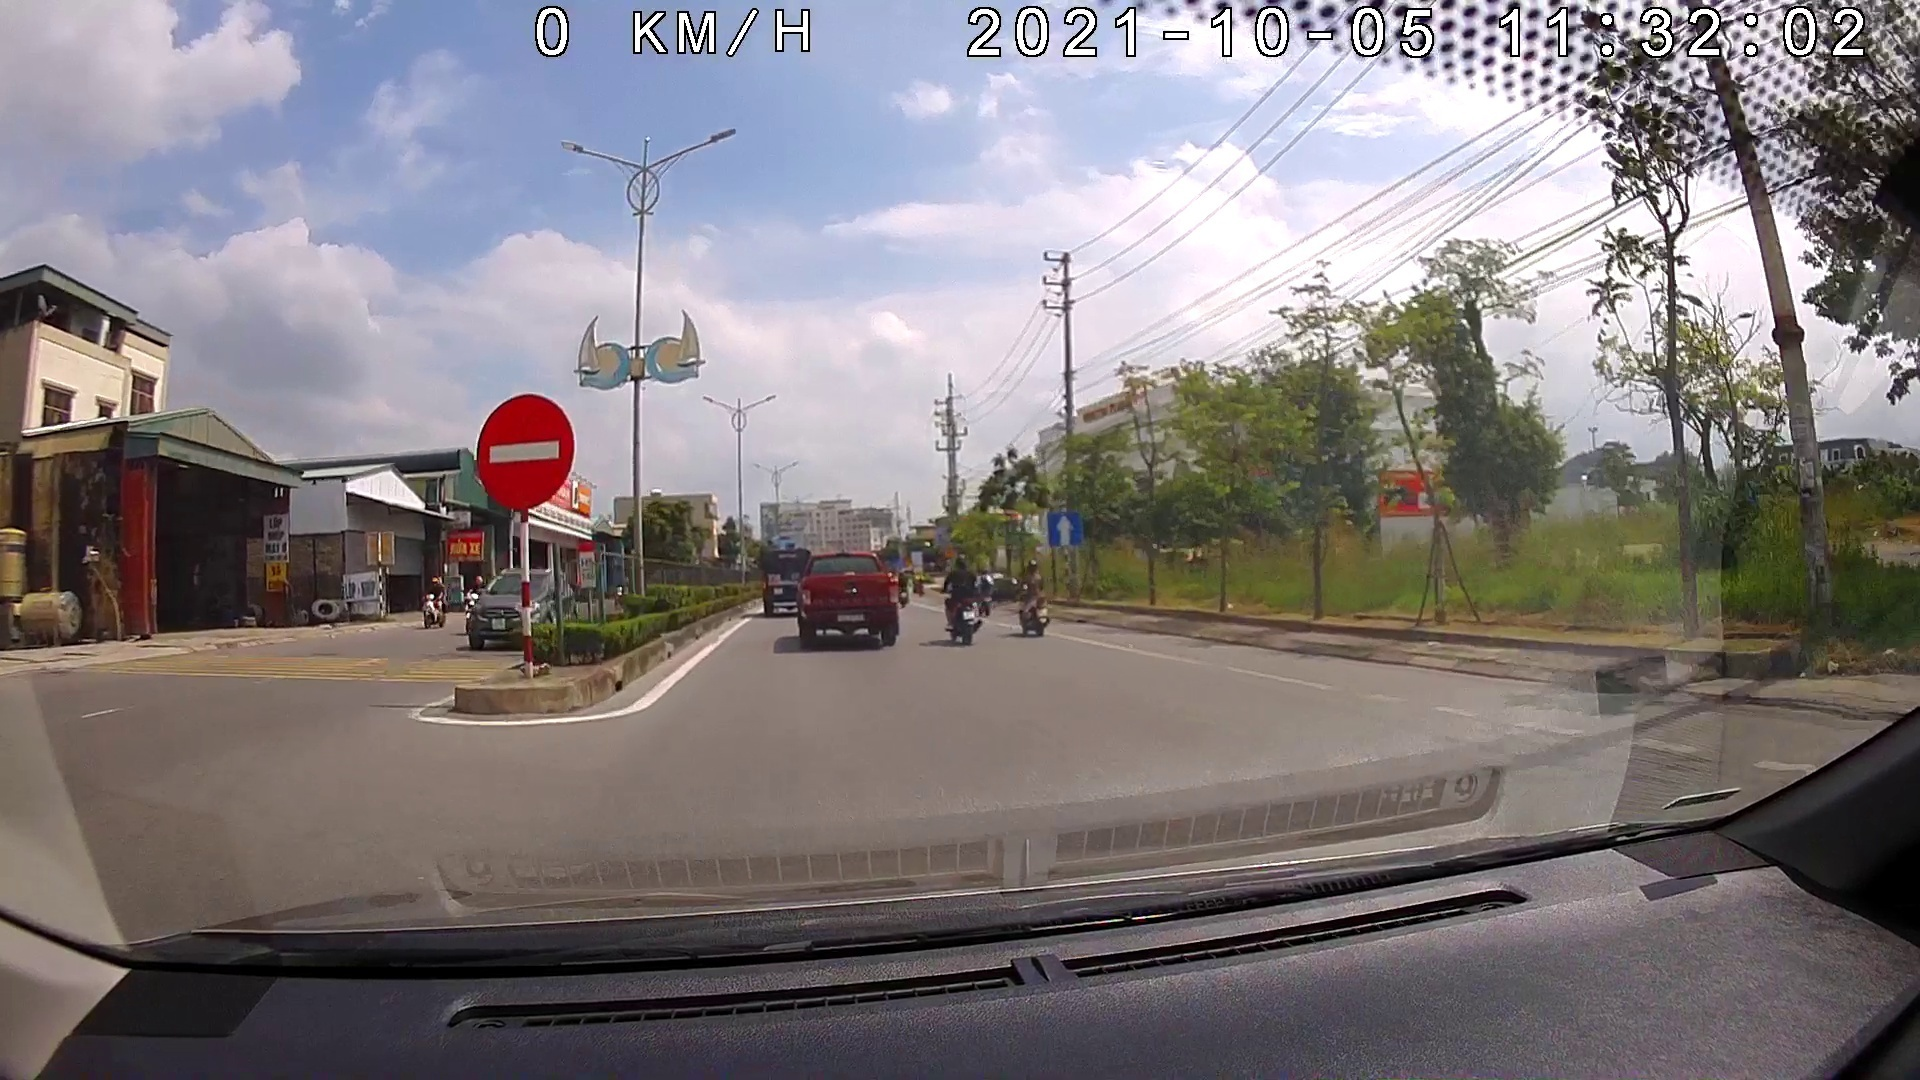Bien khac: (1044, 510, 1084, 549)
Cam di nguoc chieu: (473, 392, 578, 512)
